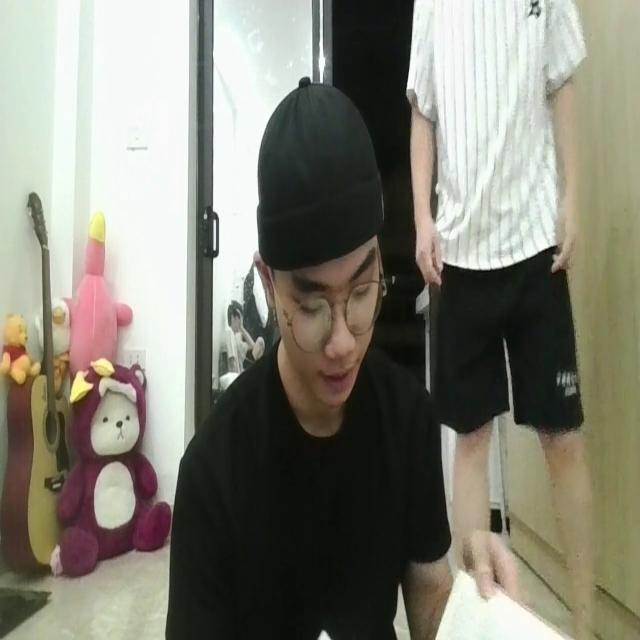book: (439, 568, 580, 640)
extra_person: (410, 1, 600, 606)
student: (161, 79, 452, 640)
